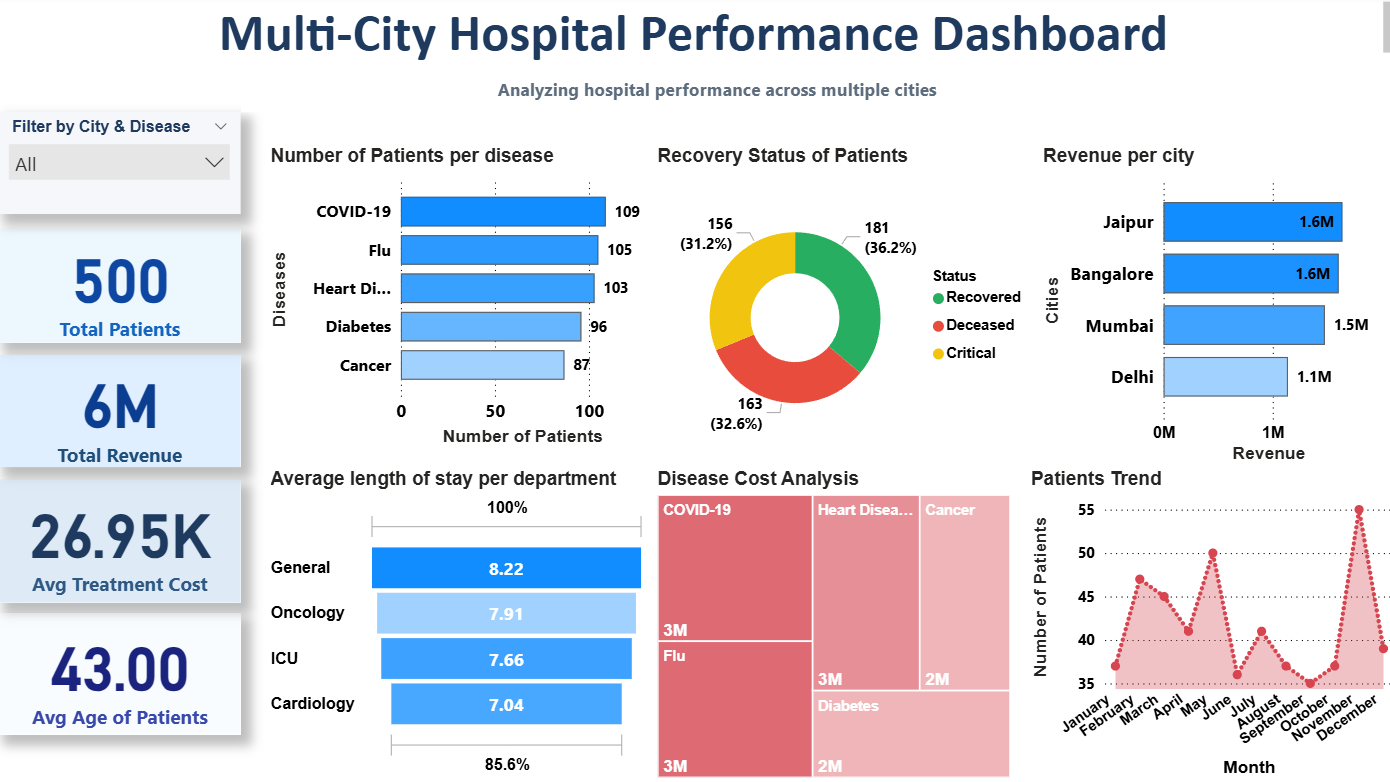

Layout of this report page (visuals, bound fields, positions):
{"tool":"powerbi","page":{"name":"Page 1","canvas":[1280,720],"ordinal":0},"visuals":[{"type":"card","fields":{"Values":["Count(healthcare_project healthcare_data_processed.Patient_ID)"]},"box":[0,214.1,222.3,104.3],"z":0},{"type":"card","fields":{"Values":["Sum(healthcare_project healthcare_data_processed.Final_Bill)"]},"box":[0,329.4,222.3,102.9],"z":1000},{"type":"card","fields":{"Values":["Avg(healthcare_project healthcare_data_processed.Treatment_Cost)"]},"box":[0,443.3,222.3,112.5],"z":2000},{"type":"barChart","title":"Number of Patients per disease","fields":{"Category":["healthcare_project healthcare_data_processed.Disease"],"Y":["CountNonNull(healthcare_project healthcare_data_processed.Patient_ID)"]},"box":[244.7,137.4,366.3,279.5],"z":3000},{"type":"donutChart","title":"Recovery Status of Patients","fields":{"Y":["CountNonNull(healthcare_project healthcare_data_processed.Patient_ID)"],"Category":["healthcare_project healthcare_data_processed.Outcome"]},"box":[598.4,137.4,352.1,295.3],"z":4000},{"type":"barChart","title":"Revenue per city","fields":{"Y":["Sum(healthcare_project healthcare_data_processed.Final_Bill)"],"Category":["healthcare_project healthcare_data_processed.City"]},"box":[950.5,137.4,330,295.3],"z":5000},{"type":"card","fields":{"Values":["Avg(healthcare_project healthcare_data_processed.Age)"]},"box":[0,565.4,222.3,111.2],"z":6000},{"type":"funnel","title":"Average length of stay per department","fields":{"Category":["healthcare_project healthcare_data_processed.Hospital_Department"],"Y":["Avg(healthcare_project healthcare_data_processed.Length_of_Stay)"]},"box":[244.7,432.6,353.7,287.4],"z":7000},{"type":"treemap","title":"Disease Cost Analysis","fields":{"Group":["healthcare_project healthcare_data_processed.Disease"],"Values":["Sum(healthcare_project healthcare_data_processed.Treatment_Cost)"]},"box":[598.3,432.3,332.1,288.2],"z":8000},{"type":"lineChart","title":"Patients Trend ","fields":{"Y":["CountNonNull(healthcare_project healthcare_data_processed.Patient_ID)"],"Category":["healthcare_project healthcare_data_processed.Admission_Date.Variation.Date Hierarchy.Month"]},"box":[939.5,432.6,341.1,287.4],"z":9000},{"type":"textbox","box":[0,0,1280.4,70],"z":10000},{"type":"slicer","fields":{"Values":["healthcare_project healthcare_data_processed.City","healthcare_project healthcare_data_processed.Disease"]},"box":[0,107,222.3,93.3],"z":11000},{"type":"textbox","box":[222.3,70,871.4,37.1],"z":12000}]}

Visuals, with their boxes in screenshot pixels (x1, y1, x2, y2), scaled from the page's 1280x720 canvas onto the 1390x782 screenshot:
card - Count(healthcare_project healthcare_data_processed.Patient_ID): pyautogui.locateOnScreen(0, 233, 241, 346)
card - Sum(healthcare_project healthcare_data_processed.Final_Bill): pyautogui.locateOnScreen(0, 358, 241, 470)
card - Avg(healthcare_project healthcare_data_processed.Treatment_Cost): pyautogui.locateOnScreen(0, 481, 241, 604)
"Number of Patients per disease" barChart: pyautogui.locateOnScreen(266, 149, 664, 453)
"Recovery Status of Patients" donutChart: pyautogui.locateOnScreen(650, 149, 1032, 470)
"Revenue per city" barChart: pyautogui.locateOnScreen(1032, 149, 1389, 470)
card - Avg(healthcare_project healthcare_data_processed.Age): pyautogui.locateOnScreen(0, 614, 241, 735)
"Average length of stay per department" funnel: pyautogui.locateOnScreen(266, 470, 650, 781)
"Disease Cost Analysis" treemap: pyautogui.locateOnScreen(650, 470, 1010, 781)
"Patients Trend " lineChart: pyautogui.locateOnScreen(1020, 470, 1389, 781)
textbox: pyautogui.locateOnScreen(0, 0, 1389, 76)
slicer - healthcare_project healthcare_data_processed.City x healthcare_project healthcare_data_processed.Disease: pyautogui.locateOnScreen(0, 116, 241, 218)
textbox: pyautogui.locateOnScreen(241, 76, 1188, 116)
